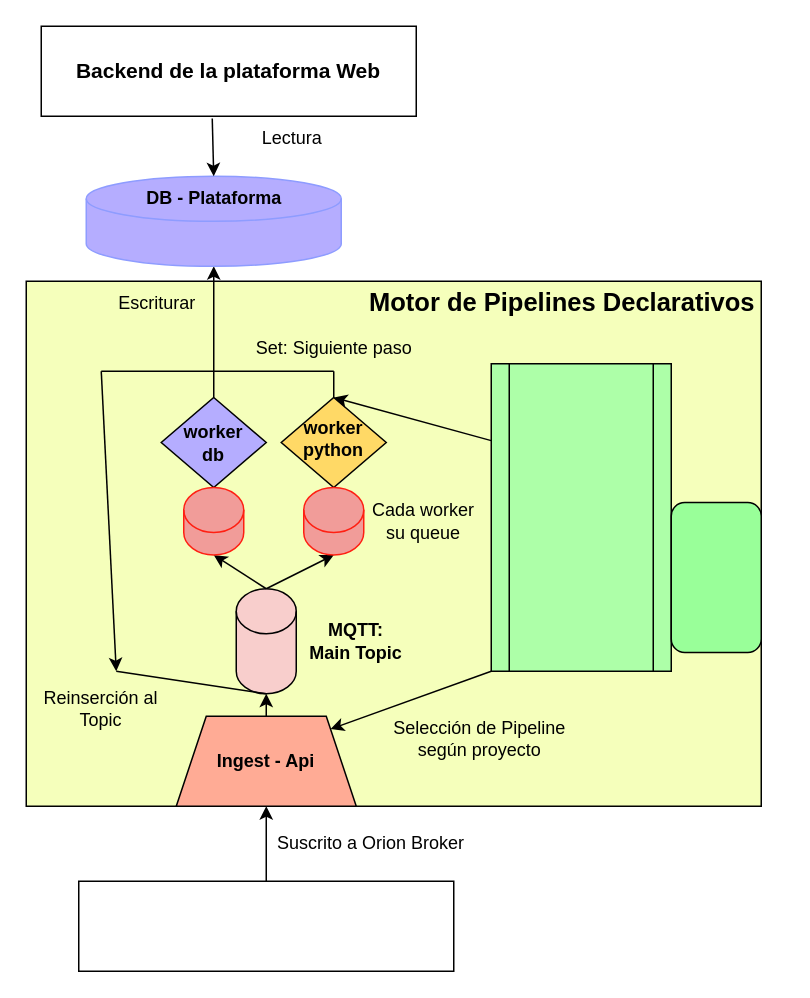
Image size: 810x998. Some labels were removed from this diagram. Here are the shapes that lost their labels. From the top down, the box of each, then its label:
(490, 362, 671, 671): Pipeline Registry
(670, 501, 761, 652): JSON Pipelines
(77, 880, 454, 971): Módulo Ingesta de Datos
